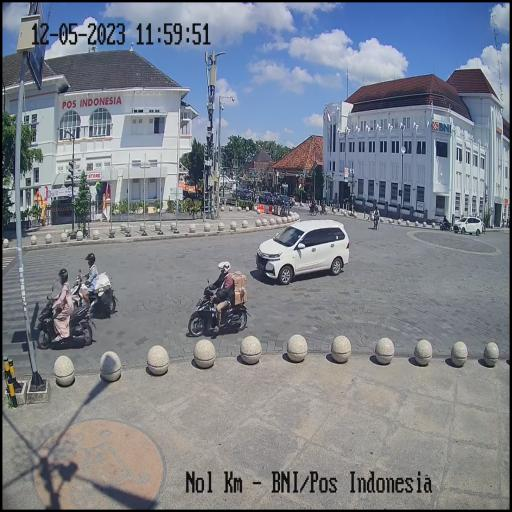mobil: (252, 214, 351, 288)
motor: (185, 275, 250, 343), (35, 284, 94, 355), (67, 267, 119, 328)
